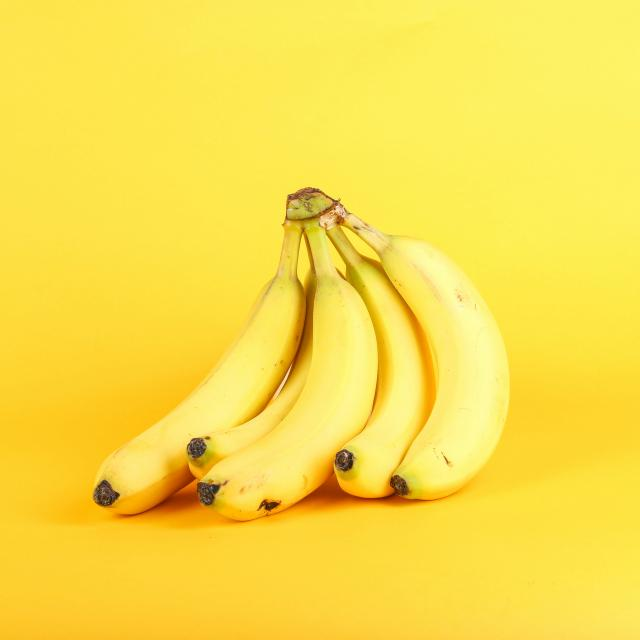banana: (93, 194, 307, 516), (197, 228, 377, 522), (340, 213, 509, 500), (189, 232, 318, 481), (328, 225, 437, 499)
